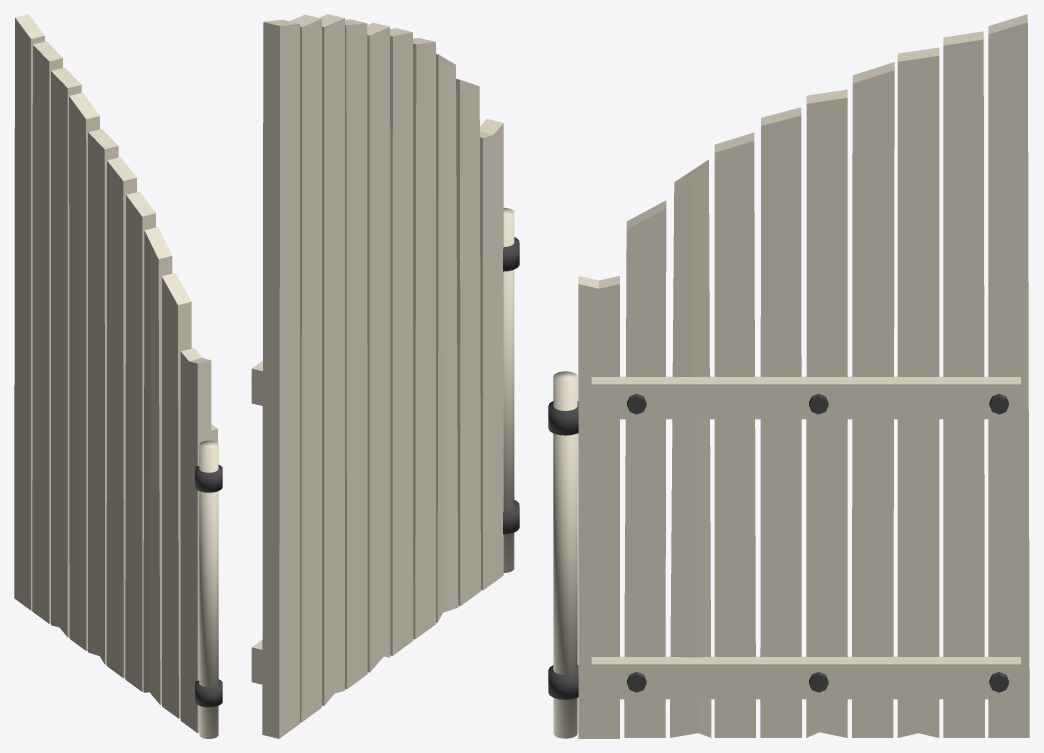
Rendered from WoodenDoor.fbx.
3 renders of one model, left to right at view 1: azimuth 30°, elevation 25°; view 2: azimuth 150°, elevation 25°; view 3: azimuth 270°, elevation 25°, orthographic. The views are drawn at different scales.
Visible parts, largest first — view 1: Cube.006, Cylinder, Cylinder.001, Cylinder.002; view 2: Cube.006, Cylinder, Cube.001, Cube, Cylinder.002, Cylinder.001; view 3: Cube.006, Cube, Cube.001, Cylinder, Cylinder.001, Cylinder.002.
Boxes of the visible parts, bbox=[...] form: Cube.006: bbox=[14, 14, 211, 733]; Cylinder: bbox=[199, 440, 218, 738]; Cylinder.001: bbox=[195, 465, 222, 492]; Cylinder.002: bbox=[195, 679, 222, 707]; Cube.006: bbox=[262, 14, 503, 738]; Cylinder: bbox=[503, 207, 514, 572]; Cube.001: bbox=[251, 639, 262, 684]; Cube: bbox=[251, 360, 262, 405]; Cylinder.002: bbox=[503, 500, 519, 534]; Cylinder.001: bbox=[503, 237, 519, 271]; Cube.006: bbox=[578, 14, 1029, 738]; Cube: bbox=[591, 376, 1020, 419]; Cube.001: bbox=[591, 656, 1020, 699]; Cylinder: bbox=[553, 371, 577, 738]; Cylinder.001: bbox=[548, 401, 578, 435]; Cylinder.002: bbox=[548, 665, 578, 699].
Size of the model in its own units: 26.13 by 393 by 239.
